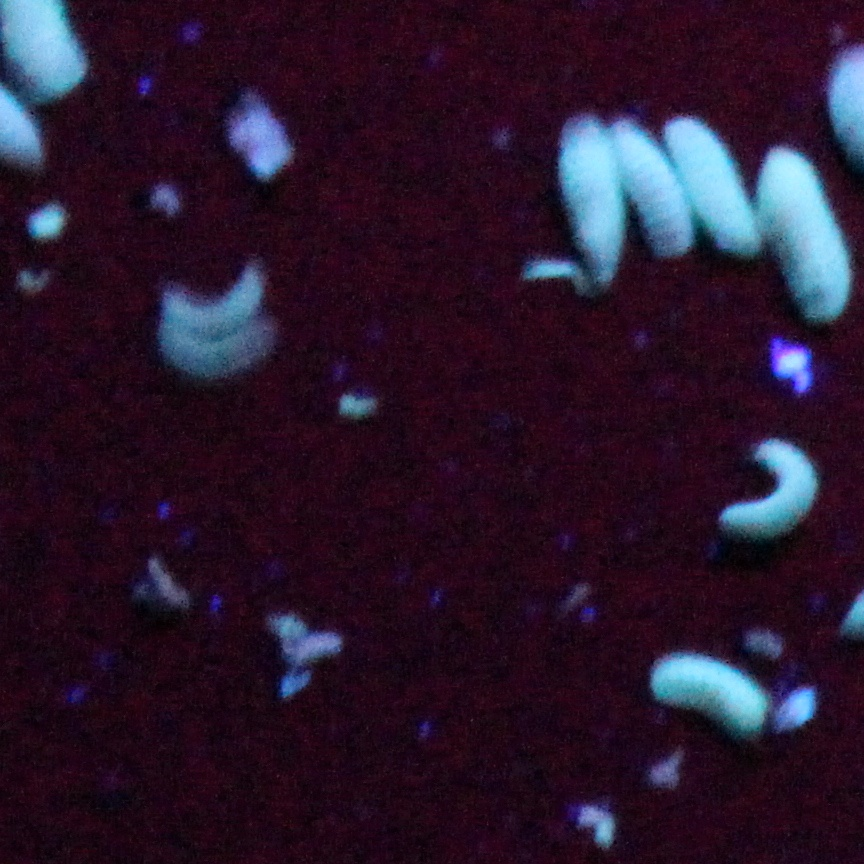larve: (759, 149, 853, 322), (609, 122, 690, 251), (674, 124, 763, 241), (561, 126, 622, 279), (657, 656, 768, 735), (720, 441, 818, 524), (157, 322, 276, 376), (159, 276, 261, 339)
